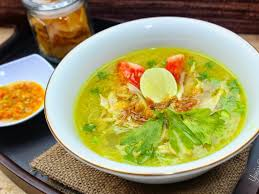soto: (61, 31, 253, 186)
